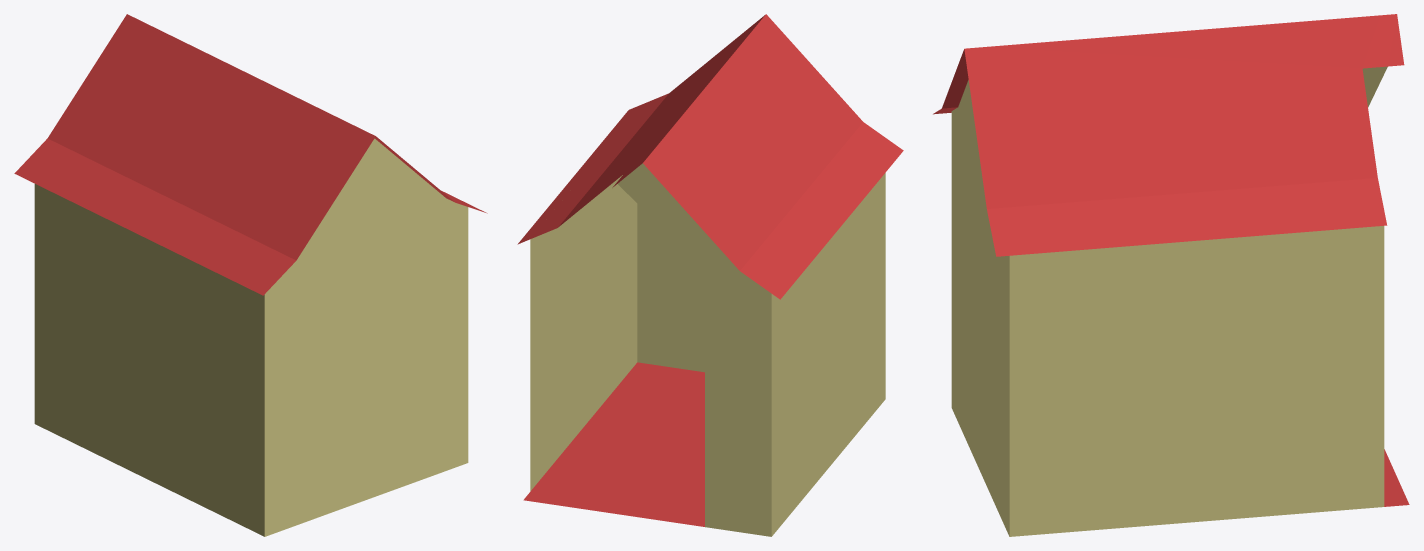
3 renders of one model, left to right at view 1: azimuth 30°, elevation 25°; view 2: azimuth 150°, elevation 25°; view 3: azimuth 270°, elevation 25°, orthographic. The views are drawn at different scales.
Bounding box in the file's own units: 12.59 × 14.33 × 14.09.
